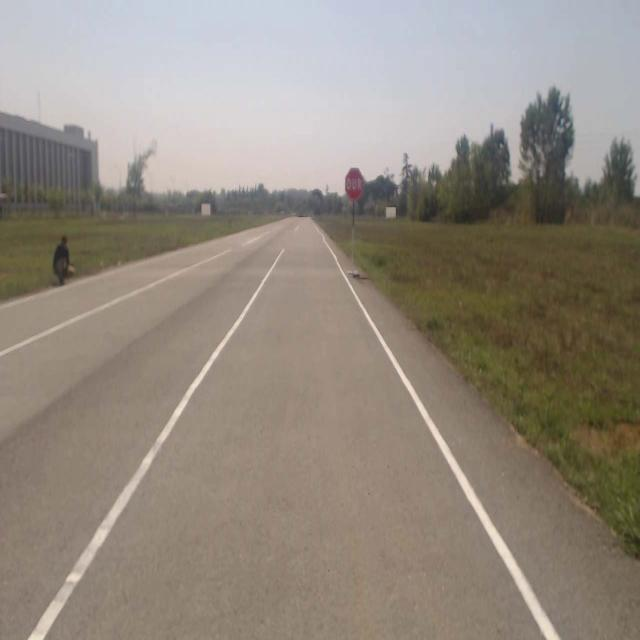dur: (346, 168, 364, 200)
